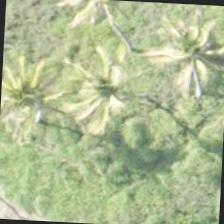Kelapa_Sawit: (58, 37, 153, 132), (143, 7, 223, 102), (0, 49, 71, 143)
